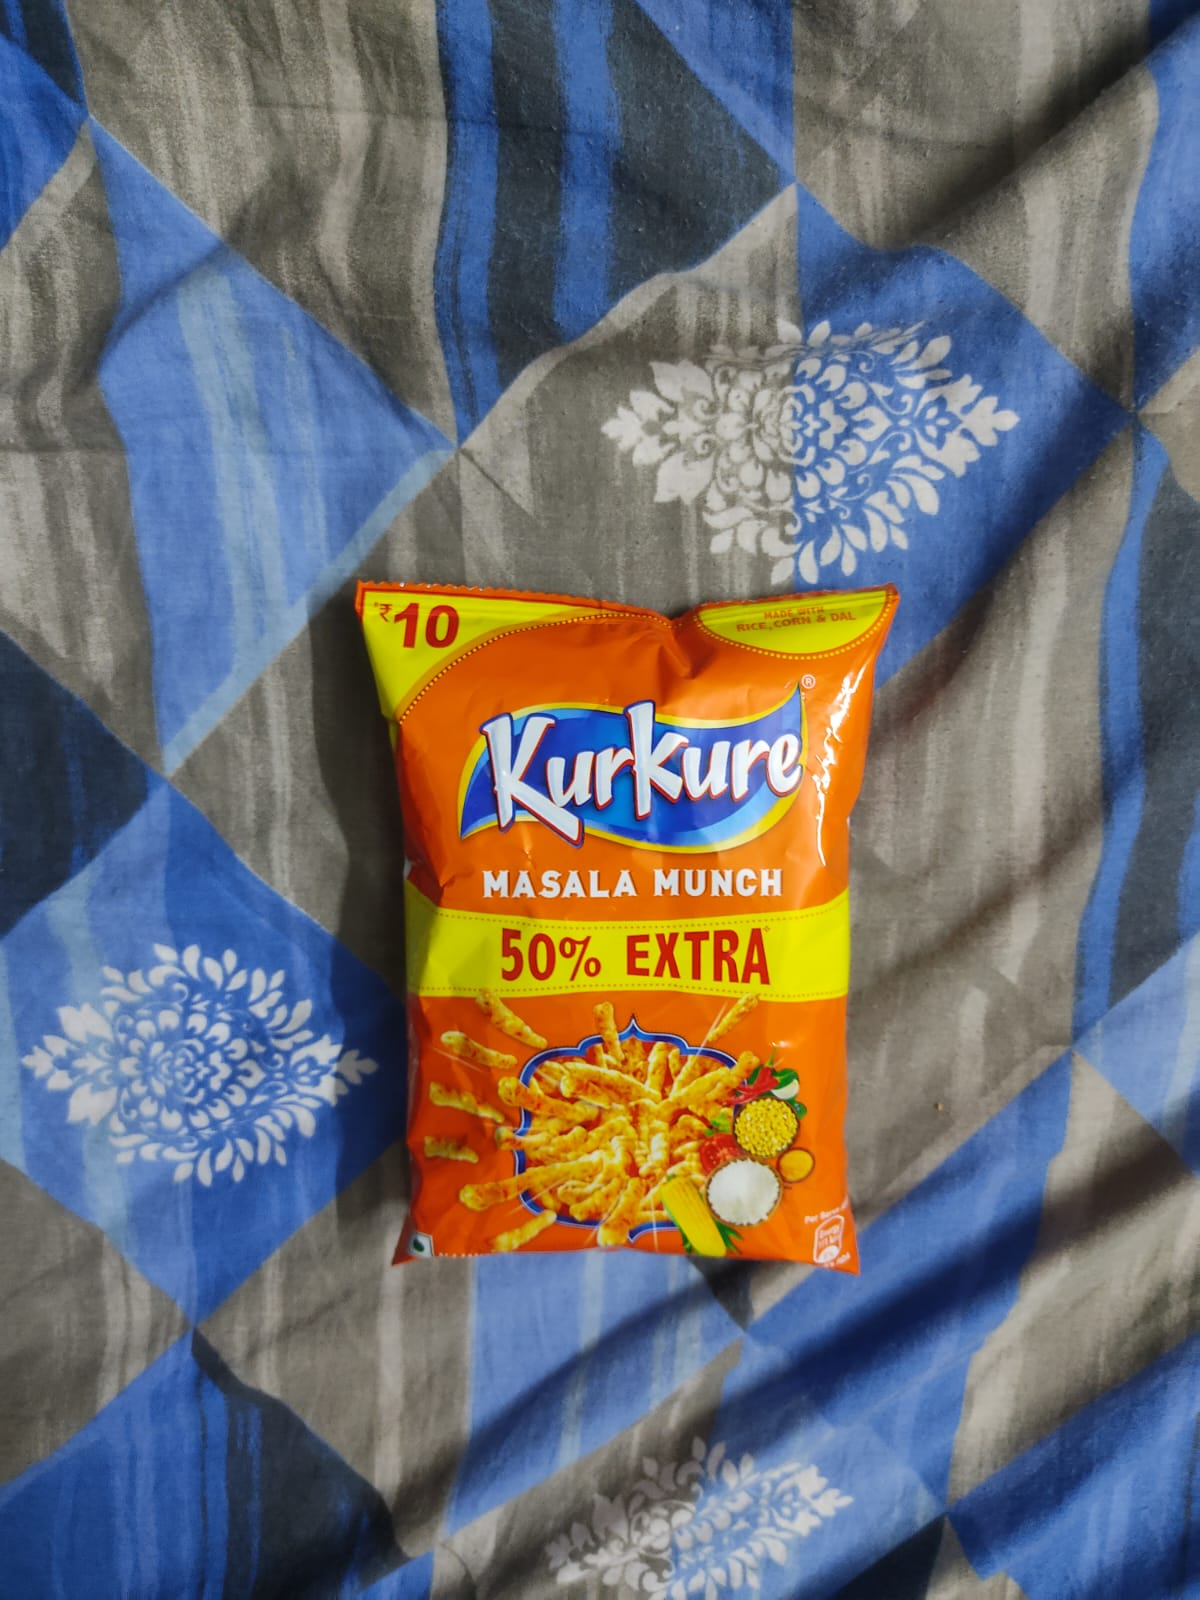010_Kurkure: (368, 590, 856, 1264)
